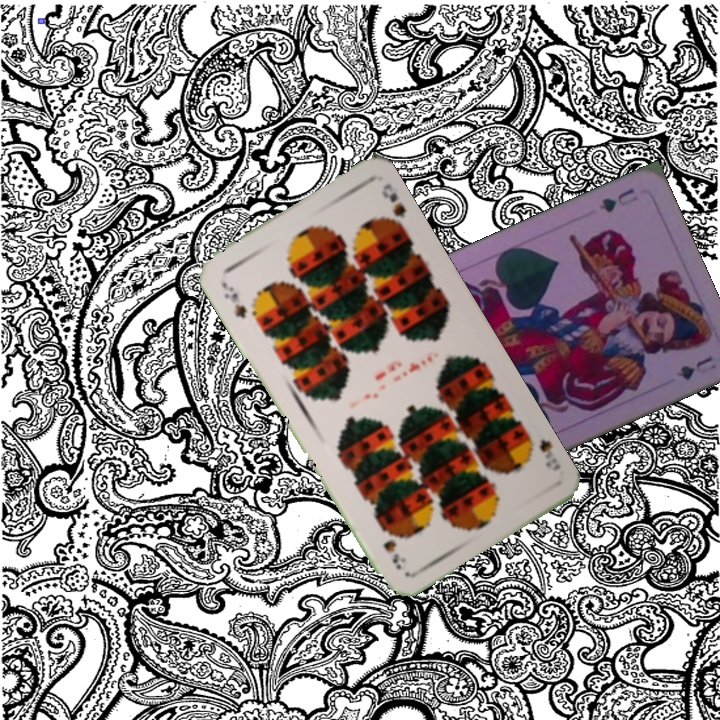GU: (595, 184, 641, 215)
S9: (520, 429, 564, 474), (217, 277, 250, 321)
